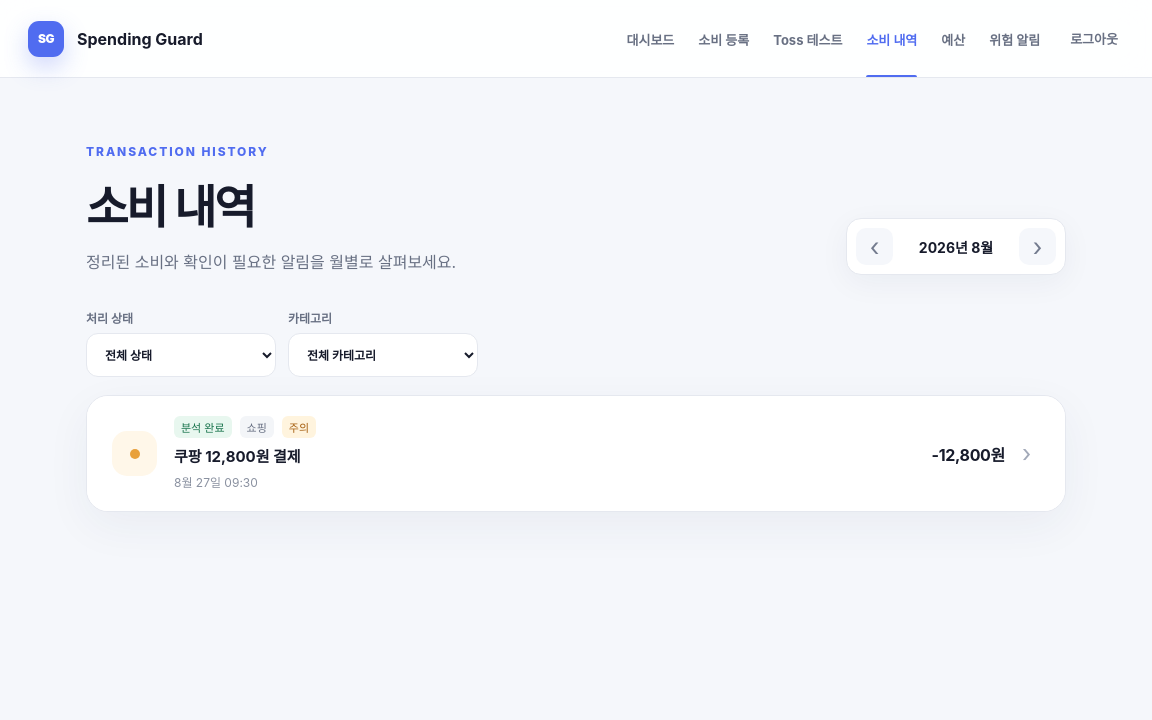
Scenario: TransactionHistoryView › removes a corrected item when it no longer matches the category filter
Expected: the text "쿠팡 12,800원 결제" is shown, 174,447 -> 301,466
Select "쇼핑" in the dropdown labelled "카테고리" at (383, 355), box 288,333 -> 478,377
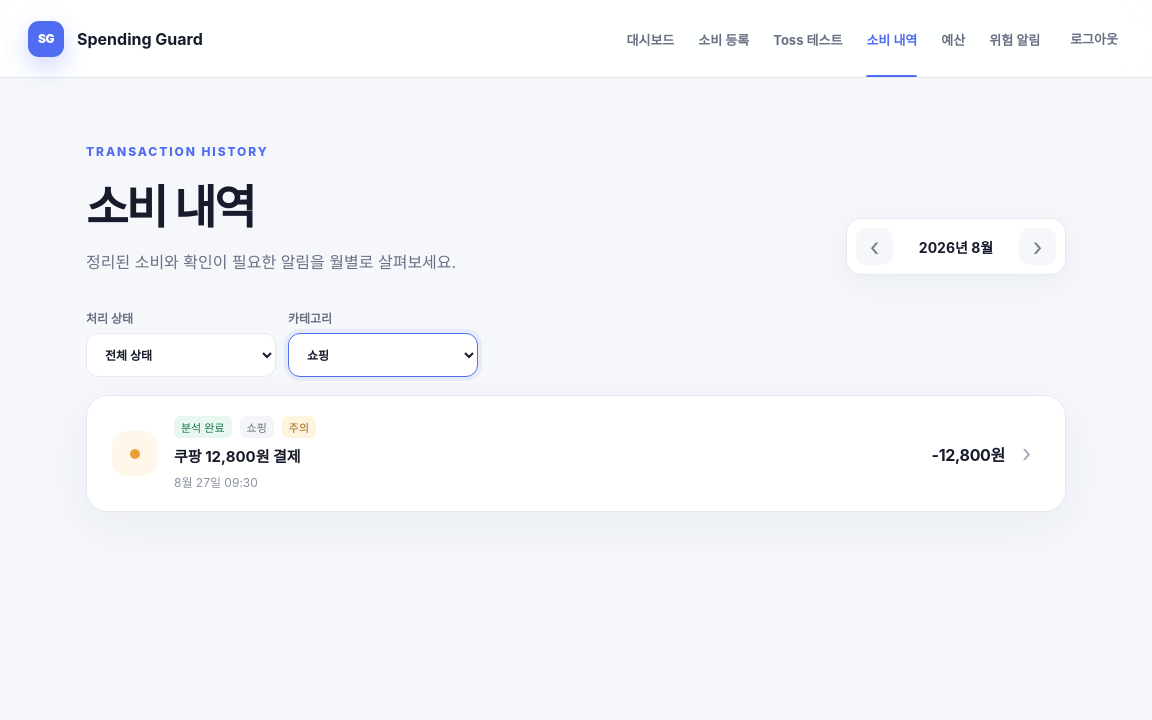
Click the button with aria-label "쿠팡 12,800원 결제 상세 보기".
click(134, 454)  # box 87,396 -> 1065,511
(page scrolled)
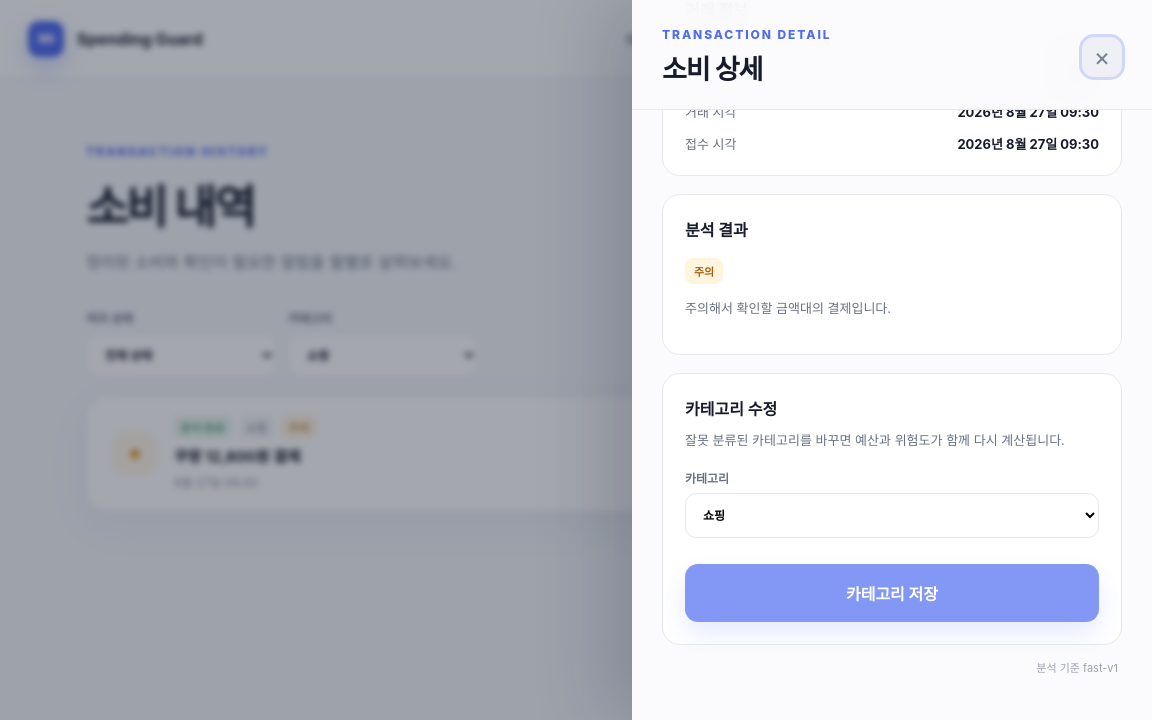
Expected: the text "직접 입력" is shown, 1048,70 -> 1099,89
Select "배달" in the dropdown labelled "카테고리" at (892, 516), box 685,493 -> 1099,538
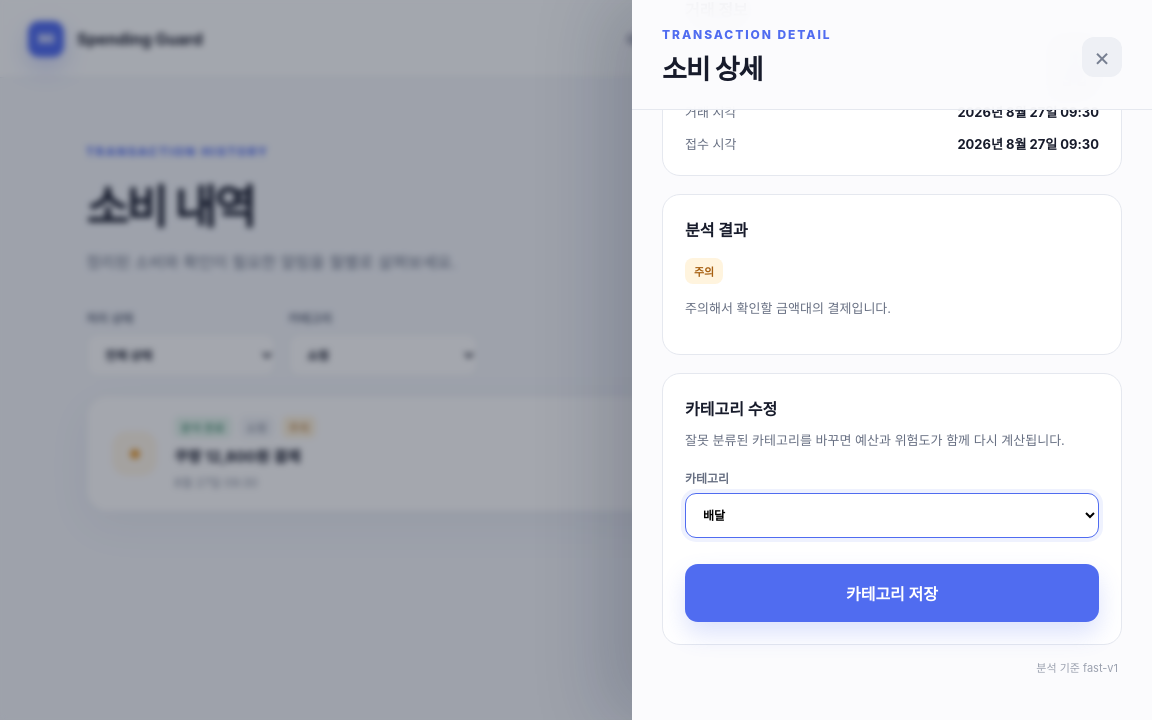
Click the button "카테고리 저장".
click(892, 593)  # box 685,564 -> 1099,622
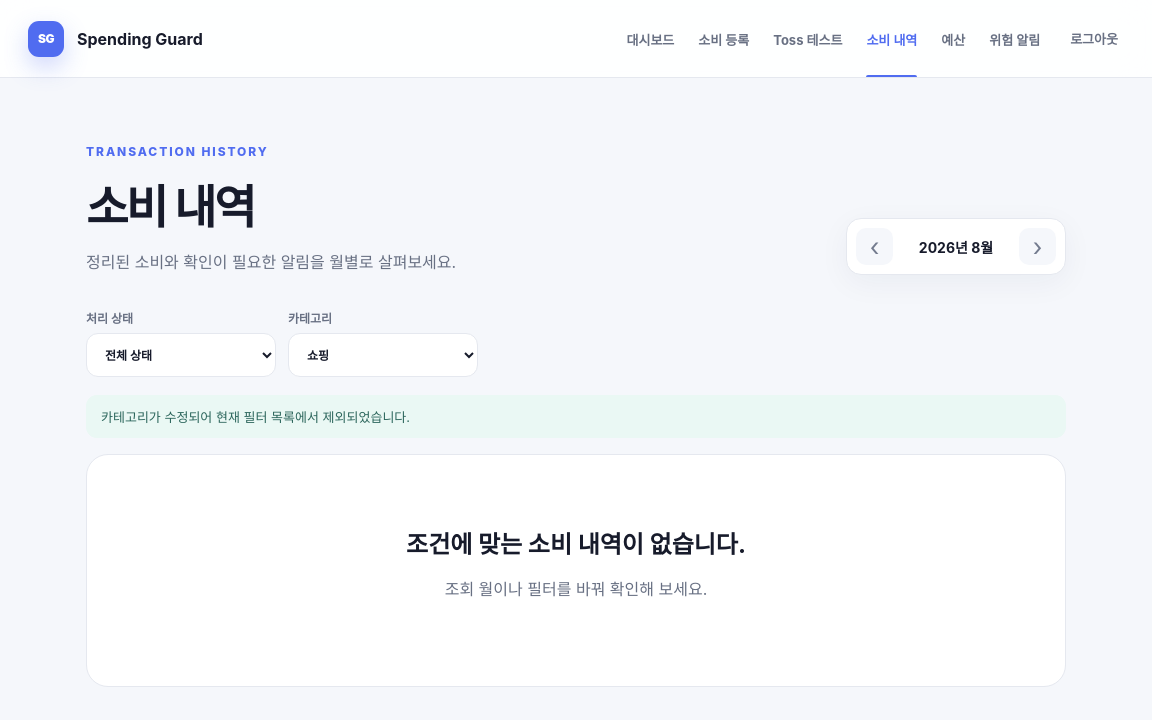
Expected: the message shows "현재 필터 목록에서 제외되었습니다.", 101,409 -> 410,425
Expected: the button "쿠팡 12,800원 결제" is gone
Expected: the dialog is gone
